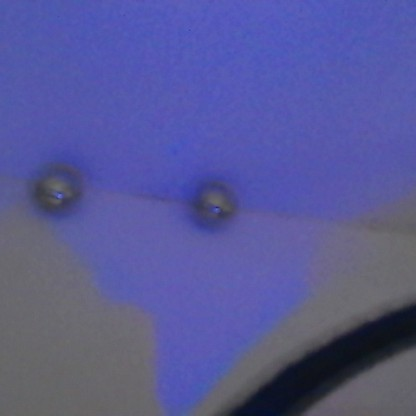ironball: (26, 158, 90, 220), (190, 177, 244, 231)
